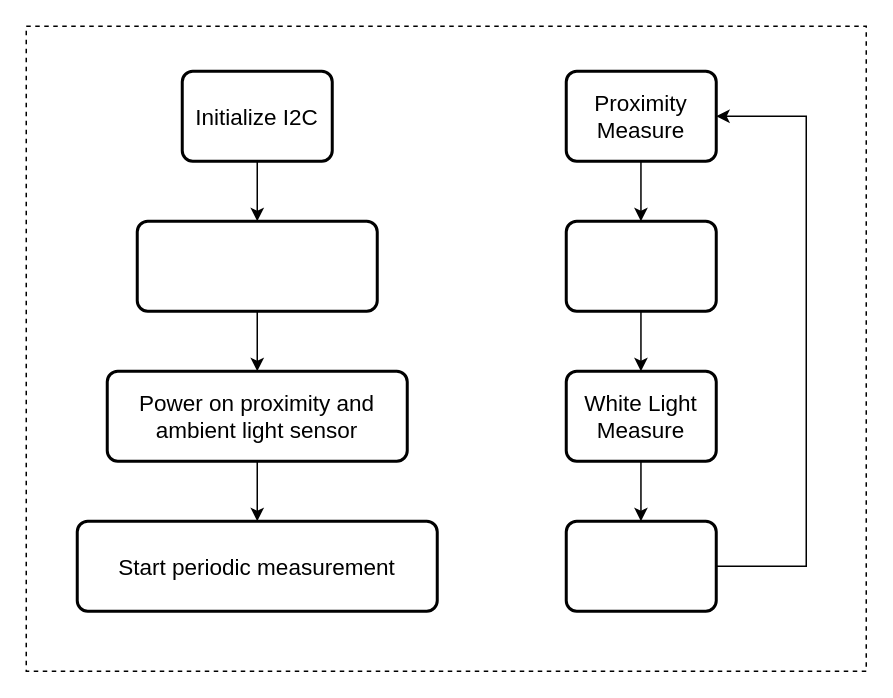
Some shapes in this 893 by 698 pixel diagram are drawn without their labels. The shapes that lost their labels are listed below. From the top down, each one's box as (x1, y1, x2, y2) in pixels, then its label:
(135, 219, 378, 312): Initialize VCNL4040
(564, 219, 717, 312): Ambient Light Measure
(564, 519, 717, 612): Send data to UART port
